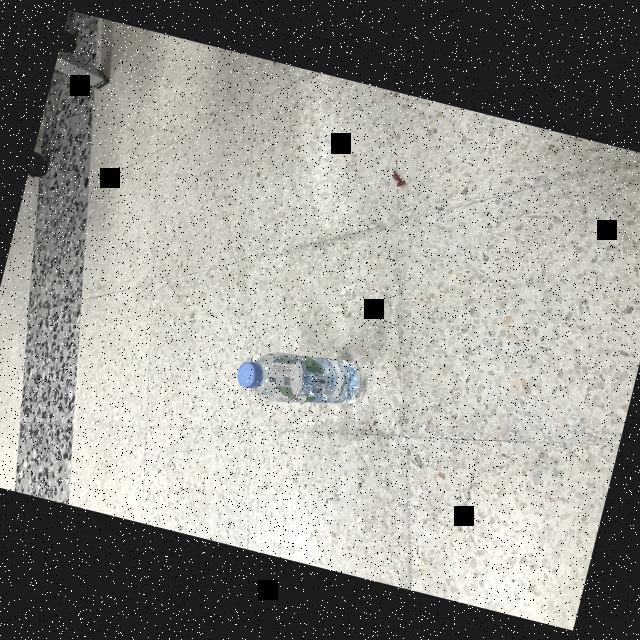plastic_bottle: (230, 333, 366, 420)
